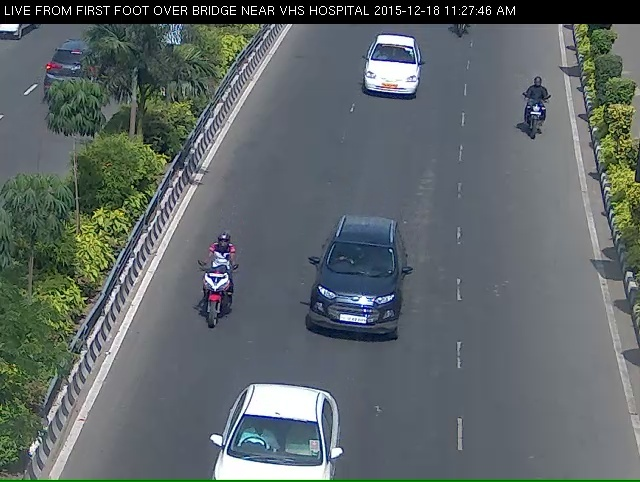Car: (296, 227, 415, 380), (353, 39, 427, 112)
Person: (175, 265, 227, 369), (521, 80, 557, 160)
